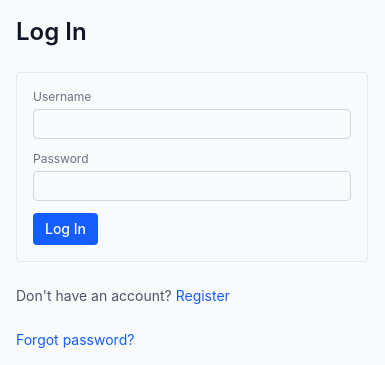
it: LoginPage › shows the MFA code step when login requires a challenge
In the field labelled "Username": (192, 124) [33,109,351,139], type "alice"
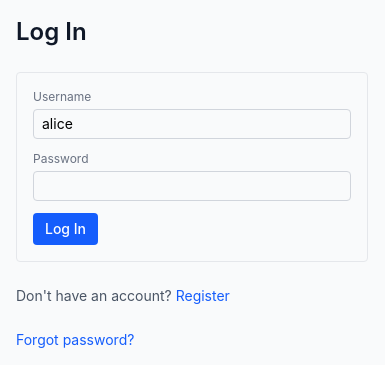
In the password field labelled "Password": (192, 186) [33,171,351,201], type "correct-password"
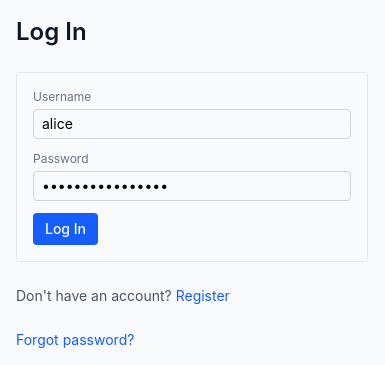
Click the button "Log In": (66, 229) [33,213,98,245]
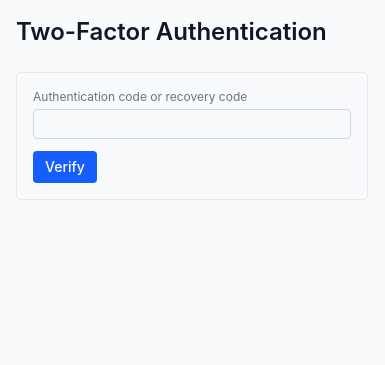
expect the heading "Two-Factor Authentication" is shown: met, box [16,16,368,48]
